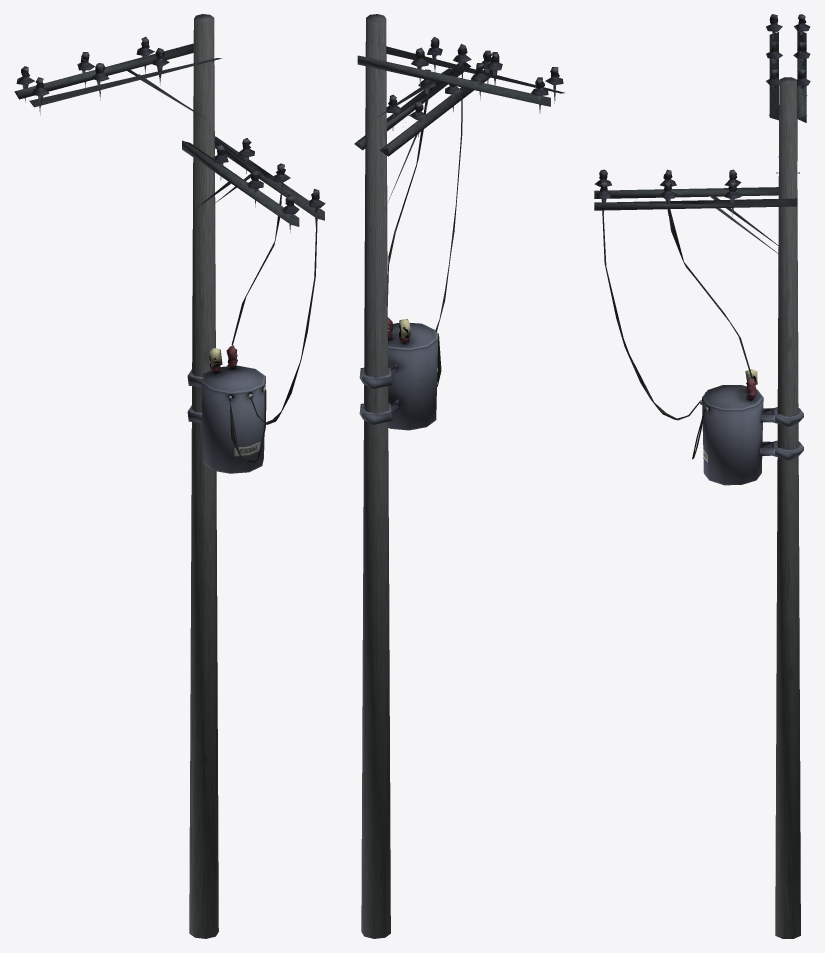
Rendered from pole_concrete_f_lod_2.glb.
The picture shows the model from 3 angles, left to right: view 1: azimuth 30°, elevation 25°; view 2: azimuth 150°, elevation 25°; view 3: azimuth 270°, elevation 25°; orthographic projection. The views are drawn at different scales.
Visible parts, largest first — view 1: pole_concrete_f_lod_2; view 2: pole_concrete_f_lod_2; view 3: pole_concrete_f_lod_2.
Boxes of the visible parts, <box> form: pole_concrete_f_lod_2: <box>14,14,325,938</box>; pole_concrete_f_lod_2: <box>354,14,564,938</box>; pole_concrete_f_lod_2: <box>594,14,810,938</box>.
Bounding box in the file's own units: 2.42 × 10.2 × 2.35.
2 materials, 2 textured.
